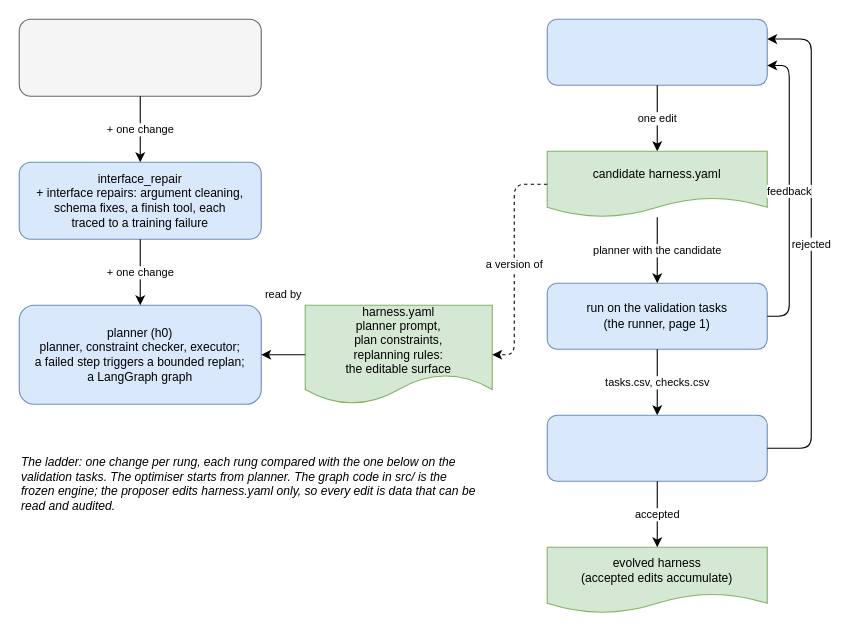
This 850x633 diagram has some shape labels left out. Here are the shapes that lost their labels. From the top down, the centre of each, then its label:
At (139,57): "default the ReAct loop of the benchmark, as it is (page 1)".
At (656,51): "proposer an LLM, offline, proposing one edit to harness.yaml".
At (656,447): "acceptance gate paired comparison per task".
